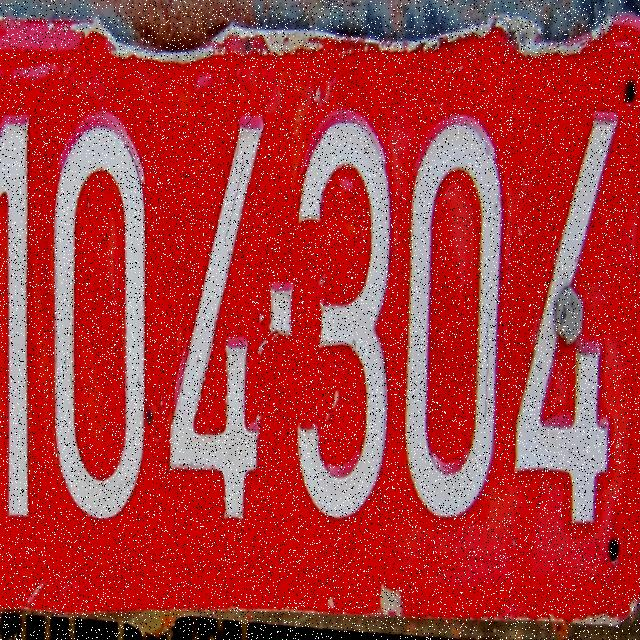licenseplate: (0, 18, 639, 612)
